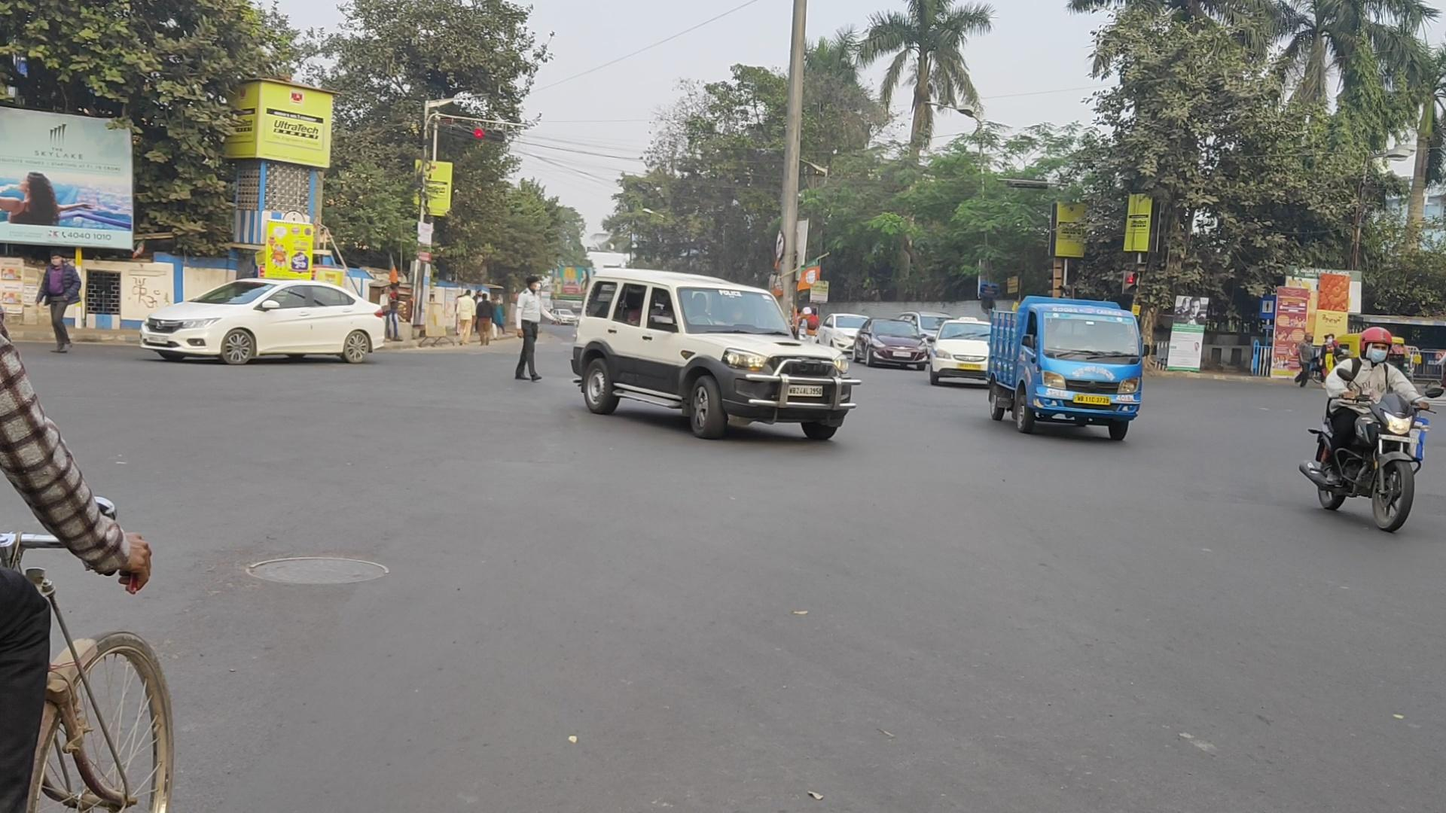Auto: (1333, 333, 1413, 391)
bike: (1298, 327, 1444, 531)
car: (569, 267, 861, 442), (139, 279, 386, 364), (928, 316, 1002, 387), (853, 318, 928, 371), (816, 313, 871, 355), (551, 309, 576, 327)
van: (984, 296, 1143, 441)
